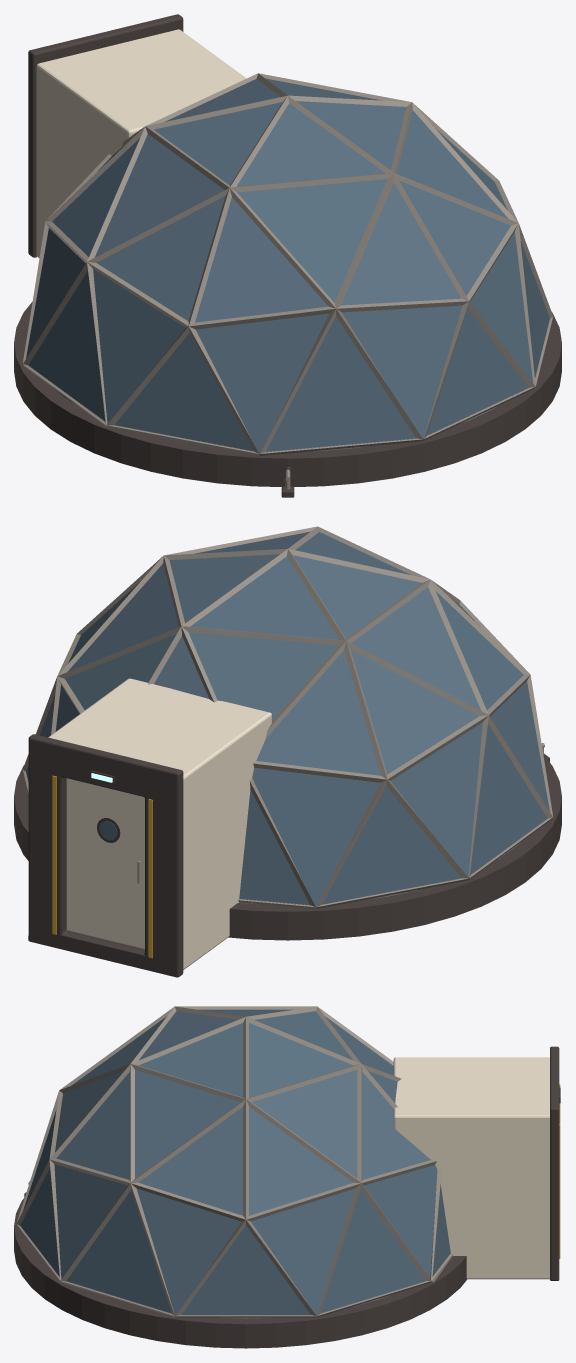
Rendered from building_greenhouse.glb.
3 views of the same model, one above another, from view 1: azimuth 30°, elevation 25°; view 2: azimuth 150°, elevation 25°; view 3: azimuth 270°, elevation 25° (orthographic). The views are drawn at different scales.
Parts seen in each view (by area): view 1: panes-col, detail-col, ring-col, vestibule-col, doorframe-col; view 2: panes-col, detail-col, vestibule-col, doorframe-col, ring-col, door; view 3: panes-col, vestibule-col, detail-col, ring-col, doorframe-col.
Part boxes in pixels (x1,y1,x2,y2): panes-col: [26, 78, 549, 452]; detail-col: [22, 73, 553, 489]; ring-col: [14, 301, 561, 486]; vestibule-col: [36, 29, 246, 258]; doorframe-col: [28, 14, 183, 257]; panes-col: [26, 531, 549, 905]; detail-col: [22, 526, 553, 958]; vestibule-col: [48, 678, 271, 969]; doorframe-col: [28, 734, 183, 977]; ring-col: [14, 755, 561, 940]; door: [66, 778, 144, 949]; panes-col: [20, 1009, 450, 1314]; vestibule-col: [393, 1057, 549, 1279]; detail-col: [16, 1006, 561, 1318]; ring-col: [14, 1197, 466, 1348]; doorframe-col: [550, 1046, 559, 1280].
Size of the model in its own units: 6.92 by 3.85 by 8.17.
